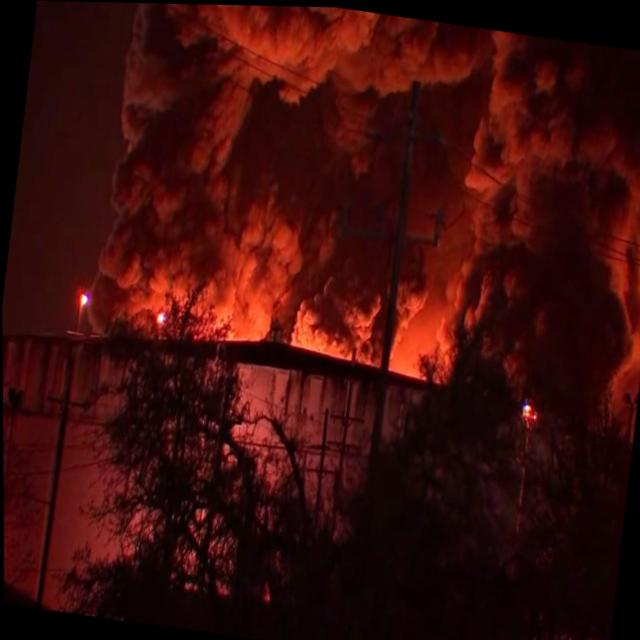fire: (635, 249, 640, 293)
